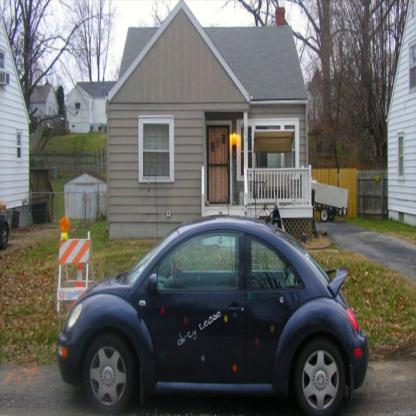Car: (57, 200, 370, 416)
